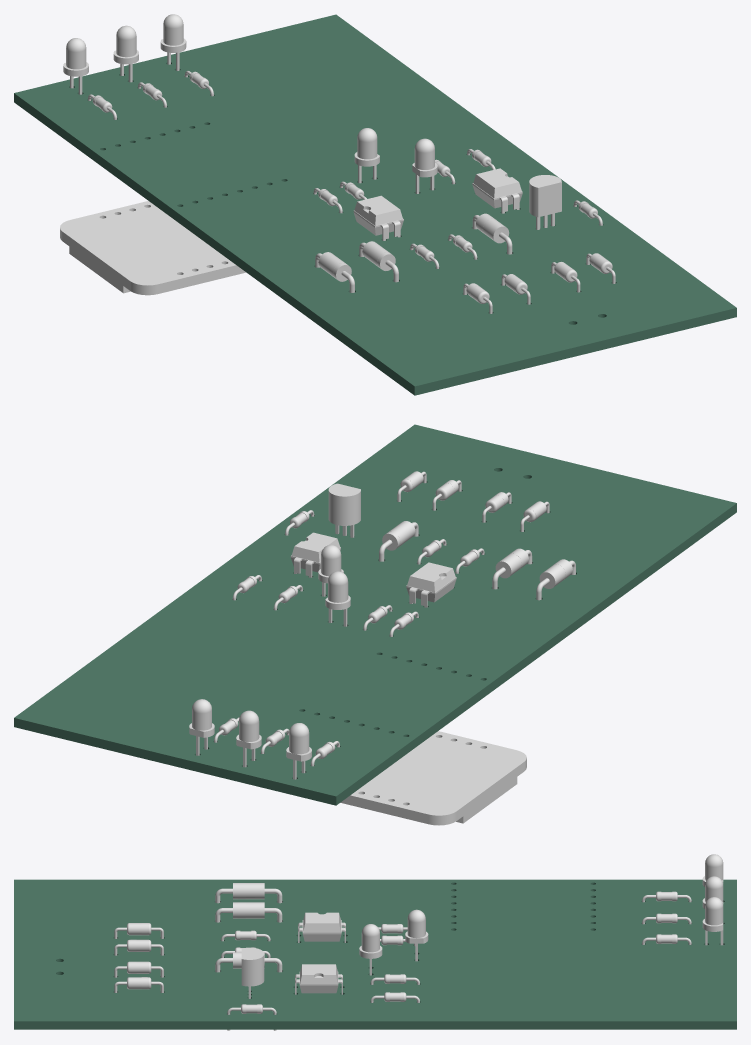
The model's file is OpenThermShield.glb.
3 renders of one model, top to bottom at view 1: azimuth 30°, elevation 25°; view 2: azimuth 150°, elevation 25°; view 3: azimuth 270°, elevation 25°, orthographic. The views are drawn at different scales.
Visible parts, largest first — view 1: =>[0:1:1:9], U1, U2, U3, Q1, D2, D10, D11, D12, D3, D1, D5 (+1 smaller); view 2: =>[0:1:1:9], U1, U2, Q1, U3, D3, D10, D11, D12, D5, D1, D6 (+1 smaller); view 3: =>[0:1:1:9], U3, U2, Q1, D6, D5, D12, D2, D3, D4, D7, D8 (+11 smaller).
Part boxes in pixels (<box>): =>[0:1:1:9]: <box>14,14,736,395</box>; U1: <box>60,201,245,295</box>; U2: <box>353,195,403,240</box>; U3: <box>472,168,522,213</box>; Q1: <box>529,175,561,229</box>; D2: <box>412,138,437,193</box>; D10: <box>63,38,88,94</box>; D11: <box>113,25,138,82</box>; D12: <box>160,14,186,70</box>; D3: <box>354,128,379,183</box>; D1: <box>472,213,512,254</box>; D5: <box>359,241,398,282</box>; =>[0:1:1:9]: <box>14,424,736,805</box>; U1: <box>340,731,526,825</box>; U2: <box>406,562,456,607</box>; Q1: <box>328,483,360,537</box>; U3: <box>290,532,340,577</box>; D3: <box>325,571,350,626</box>; D10: <box>286,723,311,779</box>; D11: <box>236,710,261,767</box>; D12: <box>189,699,214,755</box>; D5: <box>492,548,532,589</box>; D1: <box>379,521,418,561</box>; D6: <box>536,559,575,600</box>; =>[0:1:1:9]: <box>14,879,736,1029</box>; U3: <box>295,964,342,994</box>; U2: <box>298,912,345,942</box>; Q1: <box>241,947,264,998</box>; D6: <box>215,883,282,903</box>; D5: <box>215,902,282,922</box>; D12: <box>702,897,723,945</box>; D2: <box>359,924,382,975</box>; D3: <box>405,909,428,961</box>; D4: <box>114,961,163,977</box>; D7: <box>114,939,163,955</box>; D8: <box>114,977,163,992</box>.
Size of the model in its own units: 0.0611 by 0.0246 by 0.1185.
